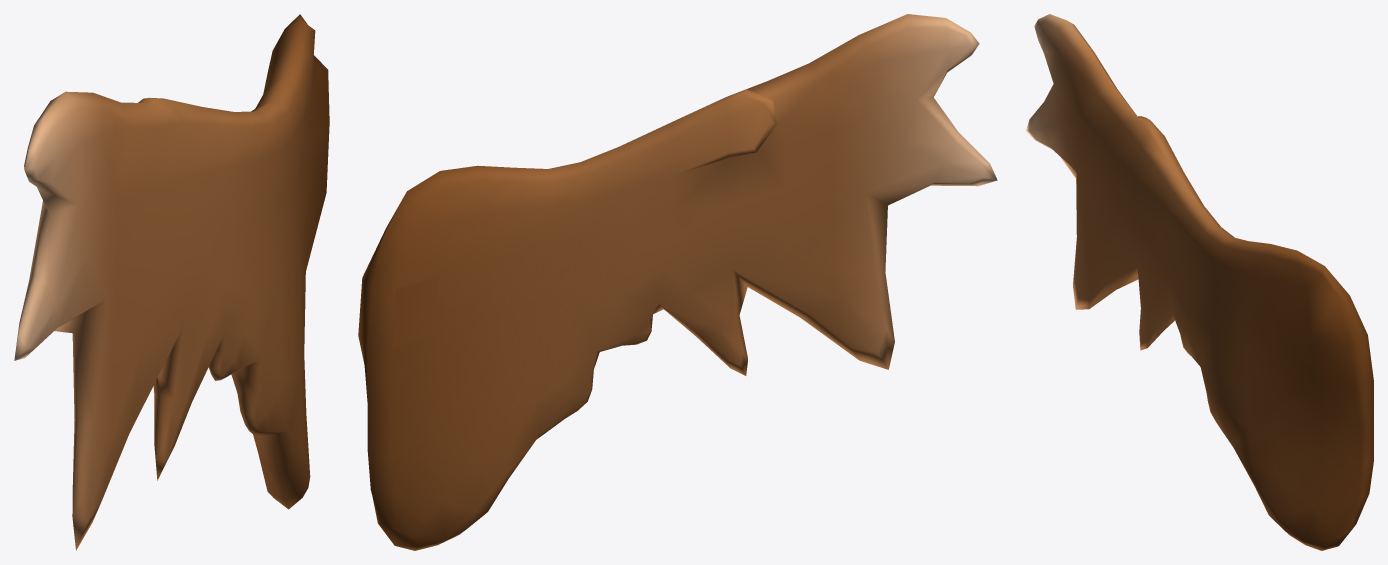
The model's file is Wings1.fbx.
3 renders of one model, left to right at view 1: azimuth 30°, elevation 25°; view 2: azimuth 150°, elevation 25°; view 3: azimuth 270°, elevation 25°, orthographic. The views are drawn at different scales.
Visible parts, largest first — view 1: wing2; view 2: wing2; view 3: wing2.
Part boxes in pixels (bbox=[...]): wing2: bbox=[14, 14, 329, 550]; wing2: bbox=[358, 14, 997, 550]; wing2: bbox=[1026, 14, 1373, 550].
Size of the model in its own units: 3.56 by 3.94 by 3.1.
1 material, 1 textured.
